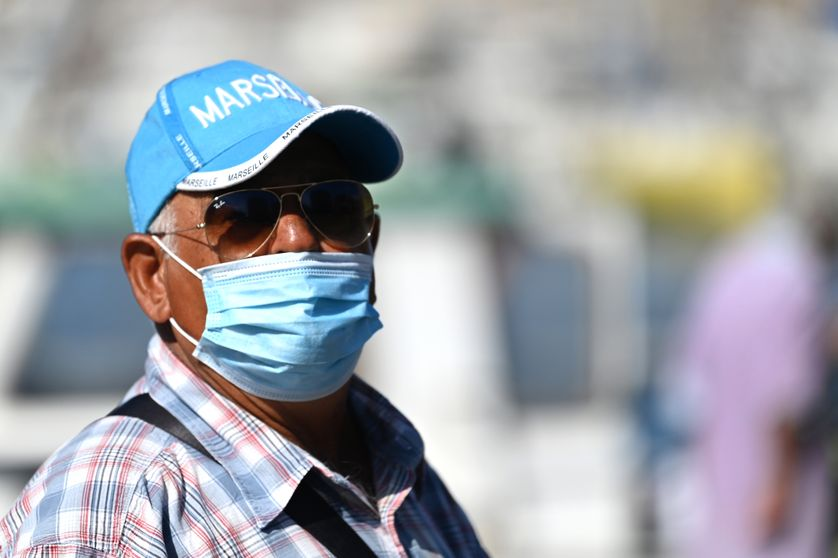with_mask: (177, 187, 376, 404)
